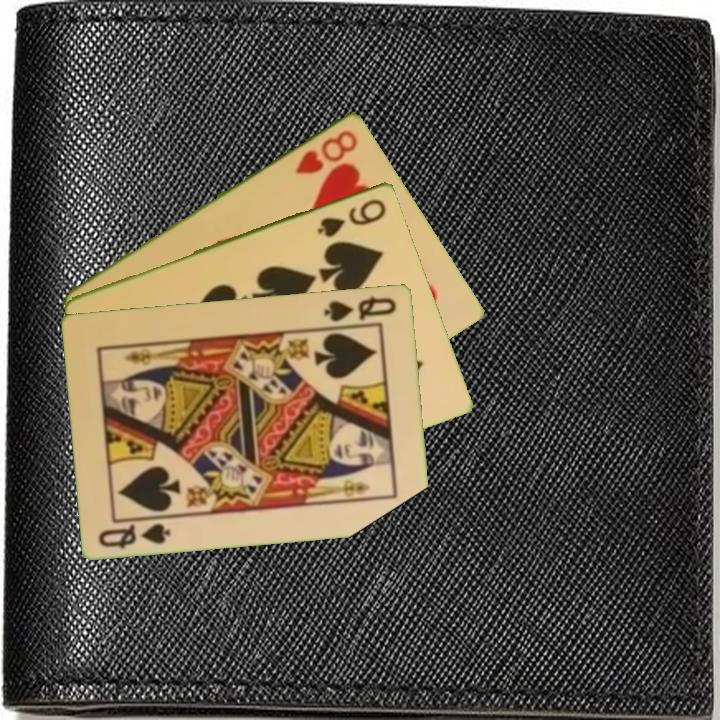8h: (292, 126, 361, 177)
9s: (313, 194, 390, 240)
Qs: (95, 514, 174, 551), (320, 292, 400, 324)
